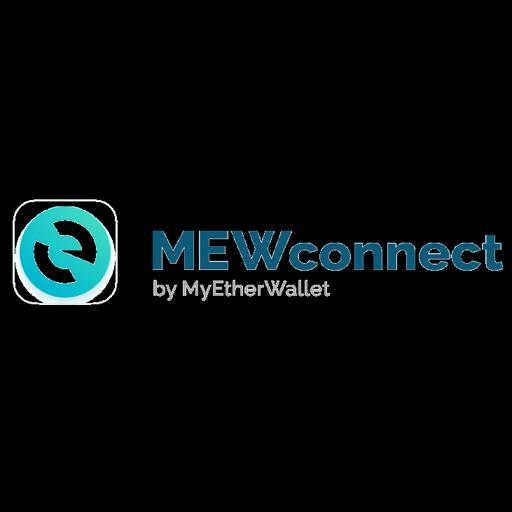MyEtherWallet: (0, 193, 512, 319)
